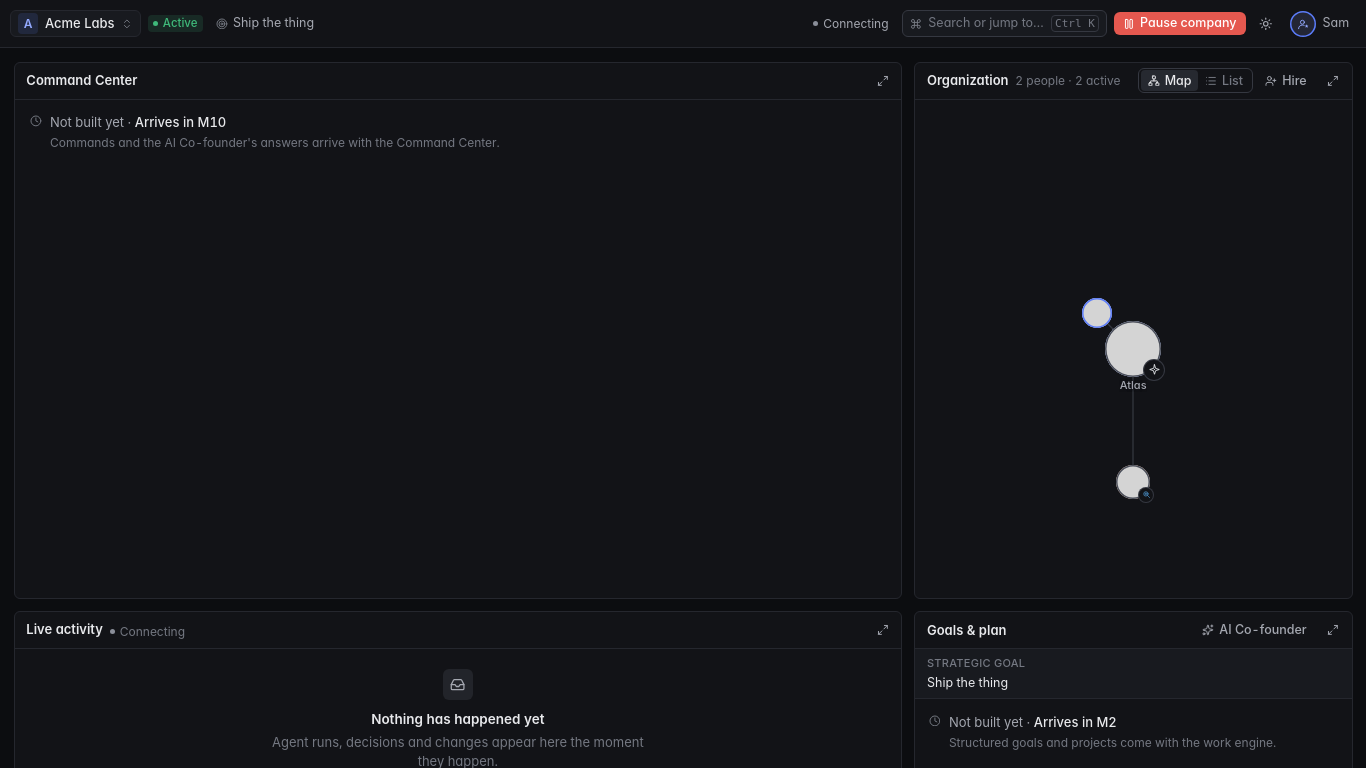
Test: the owner menu › offers none of that on the legacy owner-token backend
Click the button with aria-label "Account:" at (1321, 24), box 1286,10 -> 1356,37
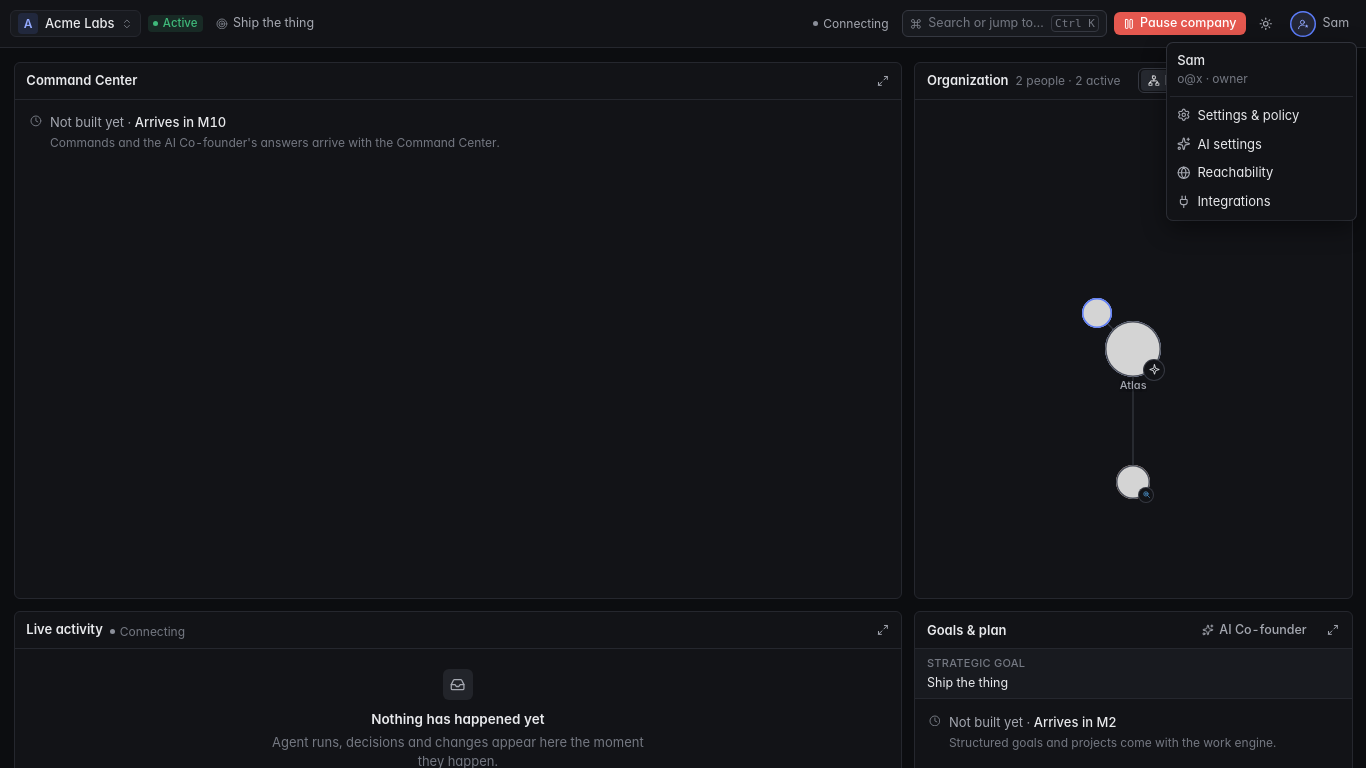
Expected: the menu item "Settings & policy" is shown, 1177,106 -> 1299,122
